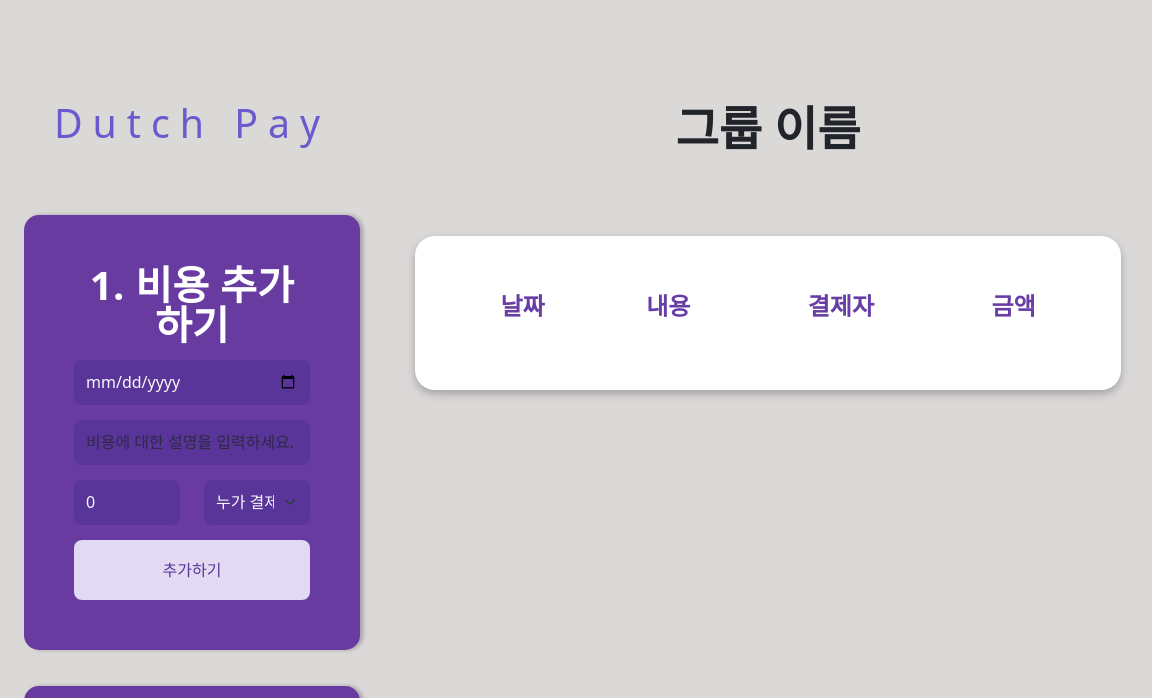
비용 정산 메인 페이지 › 새로운 비용이 입력 되었을 때 › 날짜, 비용, 결제자, 금액 데이터가 정산 리스트에 추가되는가?
Type "2023-08-04" into the date field with placeholder "결제한 날짜를 입력하세요.". click: (192, 382)
box: [74,360,310,404]
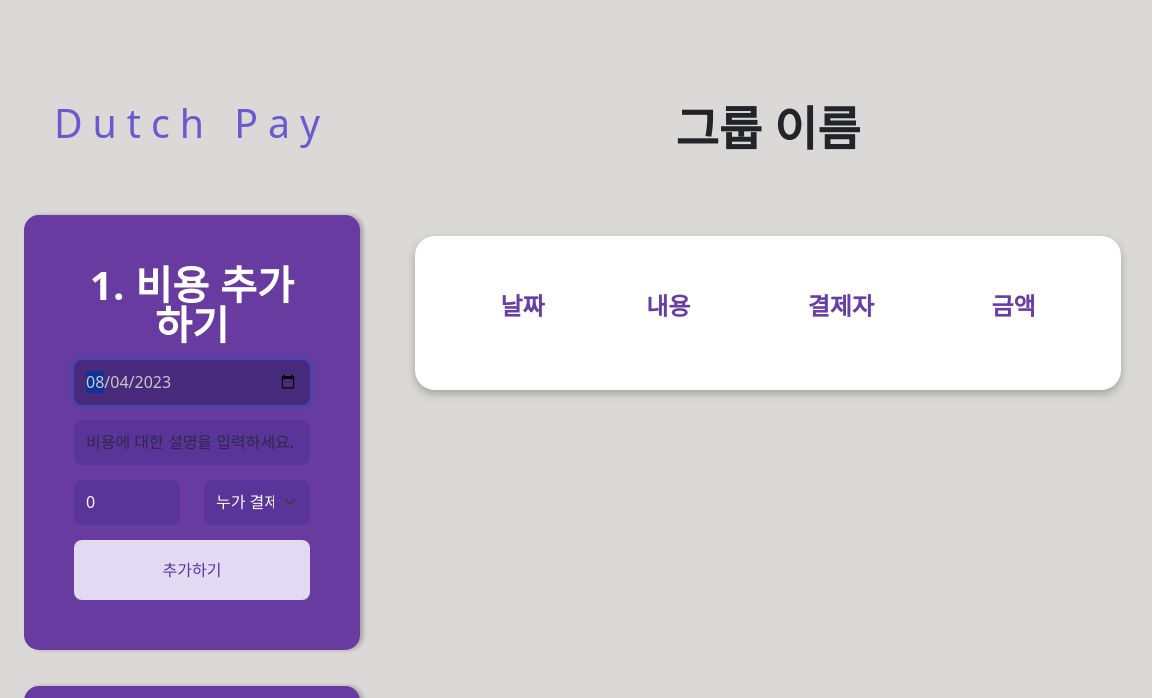
Type "장보기" into the field with placeholder "비용에 대한 설명을 입력하세요.". click: (192, 442)
box: [74,420,310,464]
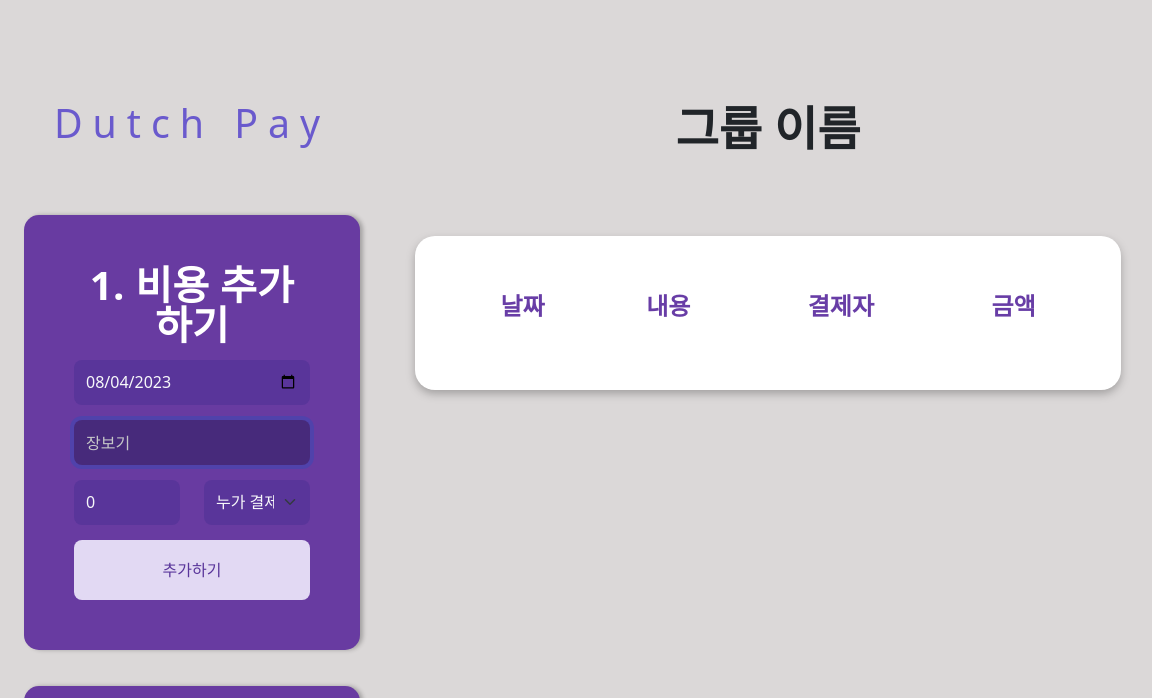
Type "3000" into the number field with placeholder "비용은 얼마였나요?". click: (127, 502)
box: [74,480,180,524]
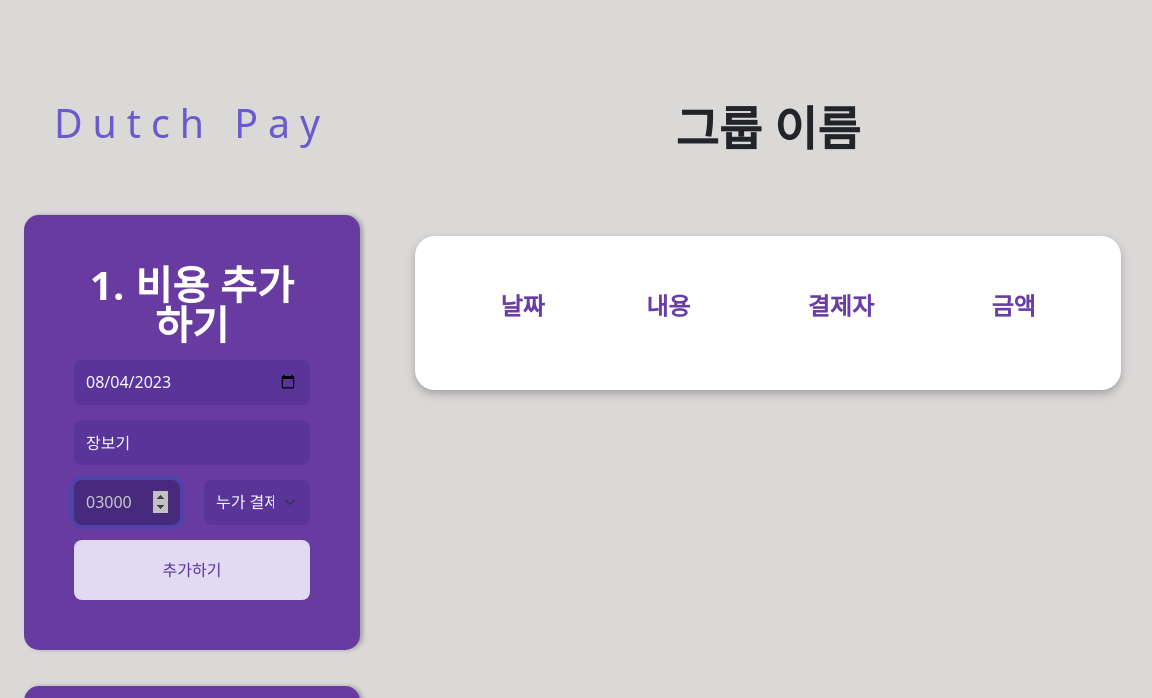
Select "영수" in the dropdown showing "누가 결제". click: (257, 502)
box: [204,480,310,524]
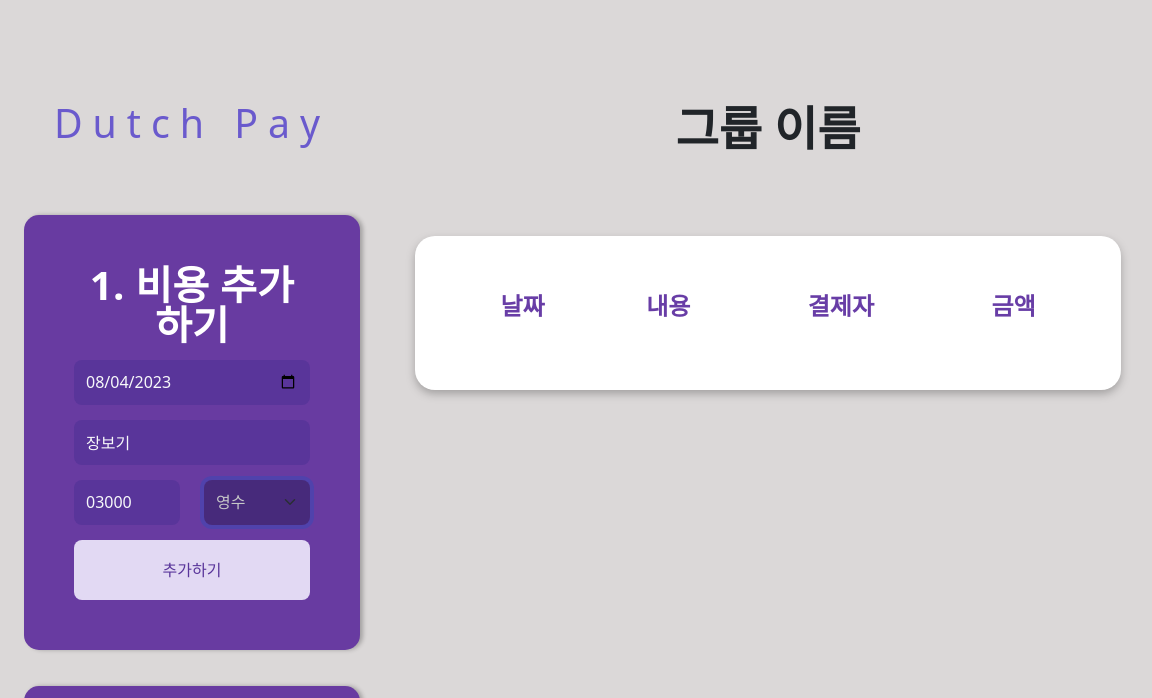
Click the button "추가하기". click: (192, 570)
box: [74,540,310,600]
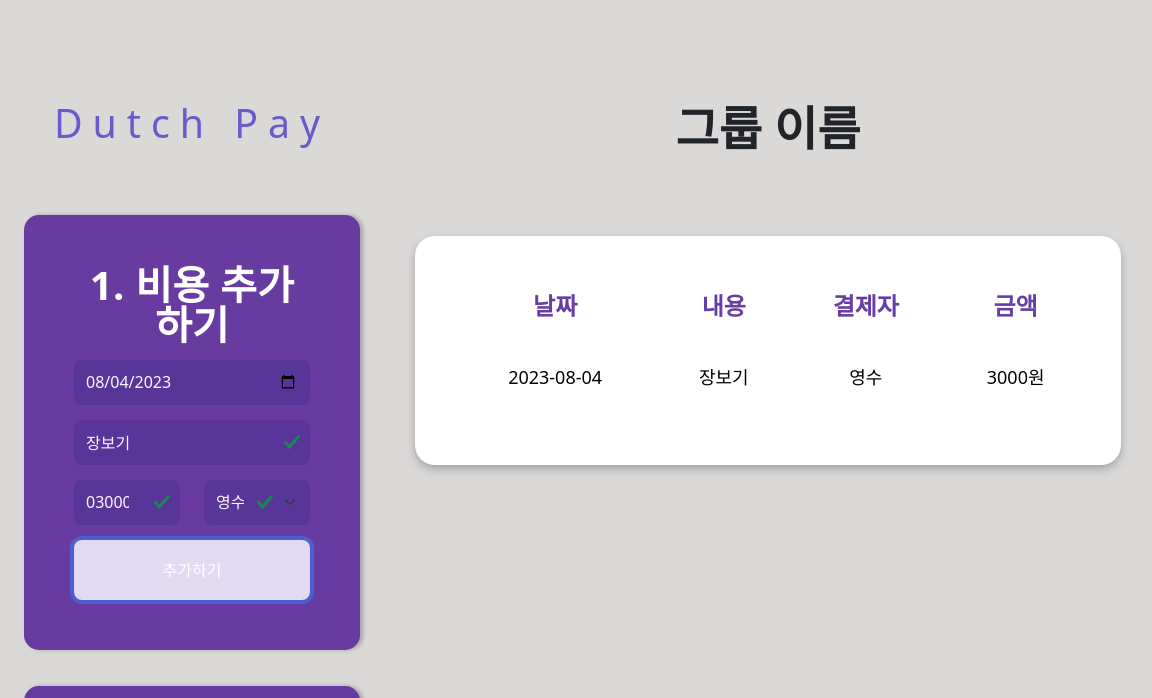
Now the text "2023-08-04" is shown, box [450,340,661,415]
Now the text "장보기" is shown, box [661,340,787,415]
Now the text "3000원" is shown, box [945,340,1086,415]
